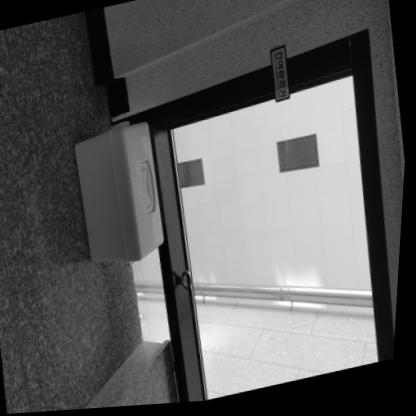DDL: (67, 119, 172, 276)
